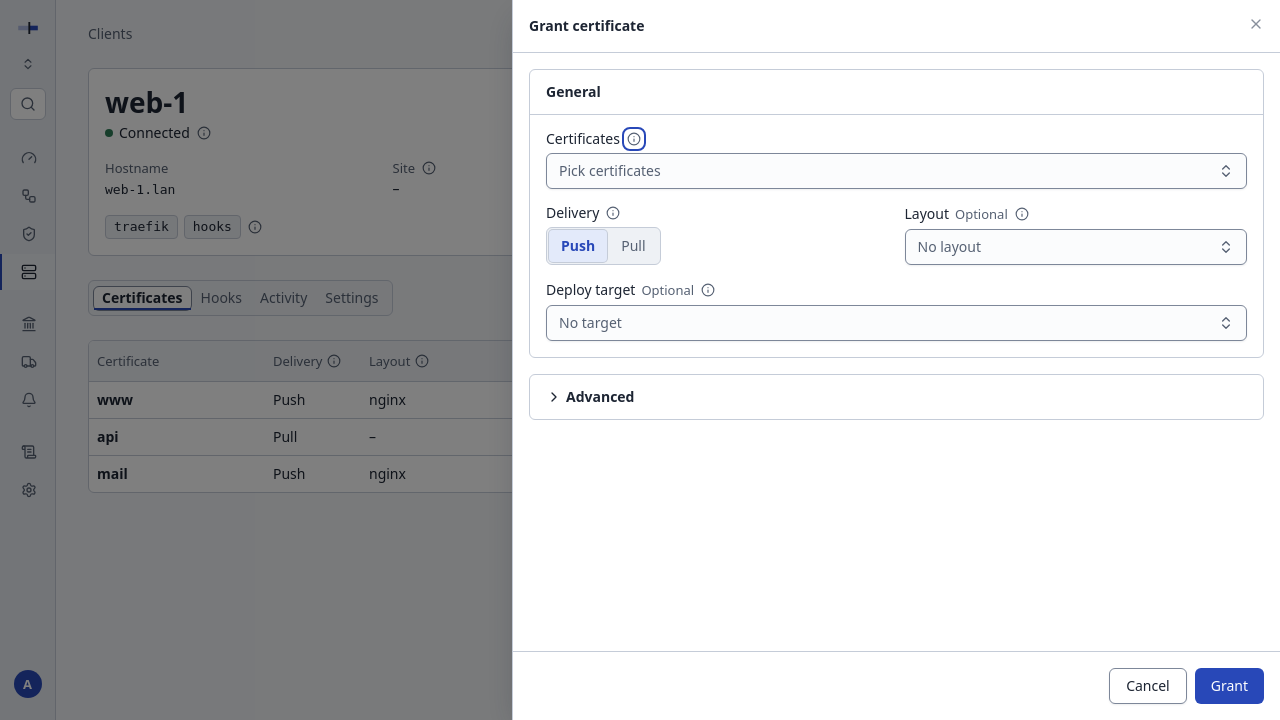
Test: either target saved as agent is pickable
The image size is (1280, 720).
Step 1. Click the dropdown named "Deploy target" → (590, 322), box [546,305,1247,341]
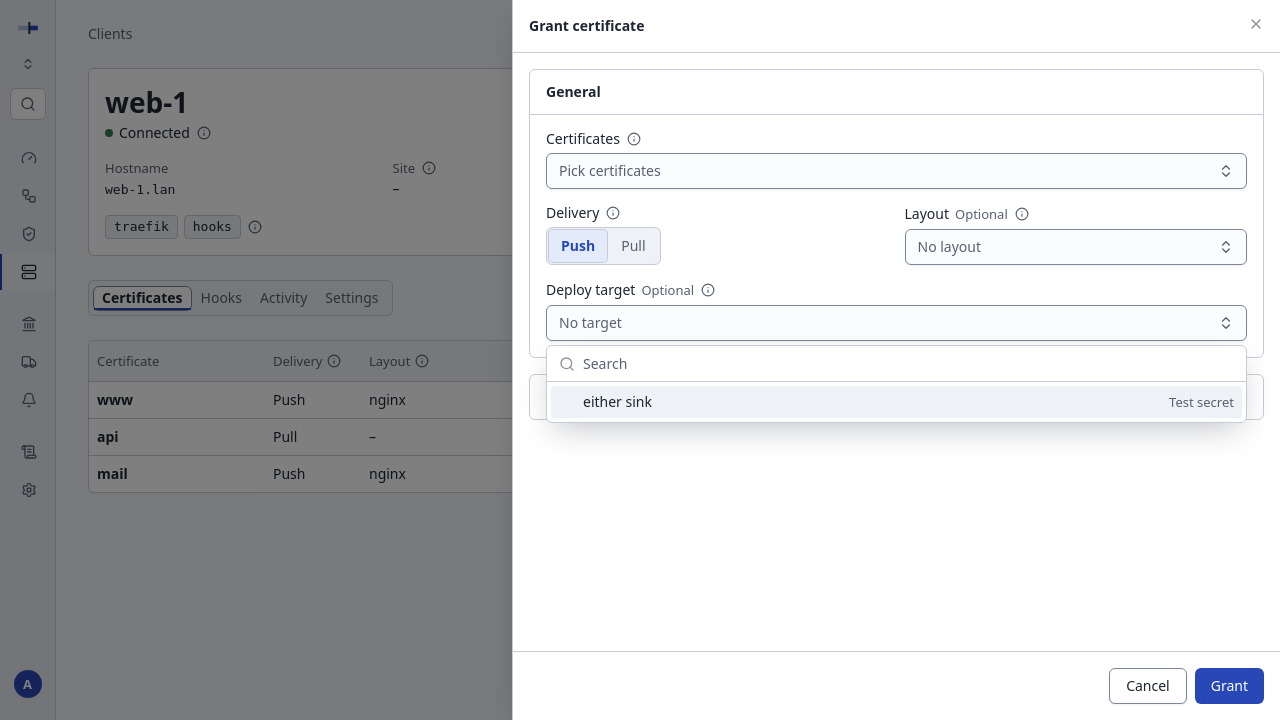
Step 2. Click the option "either sink Test secret" → (617, 402), box [551,386,1242,418]
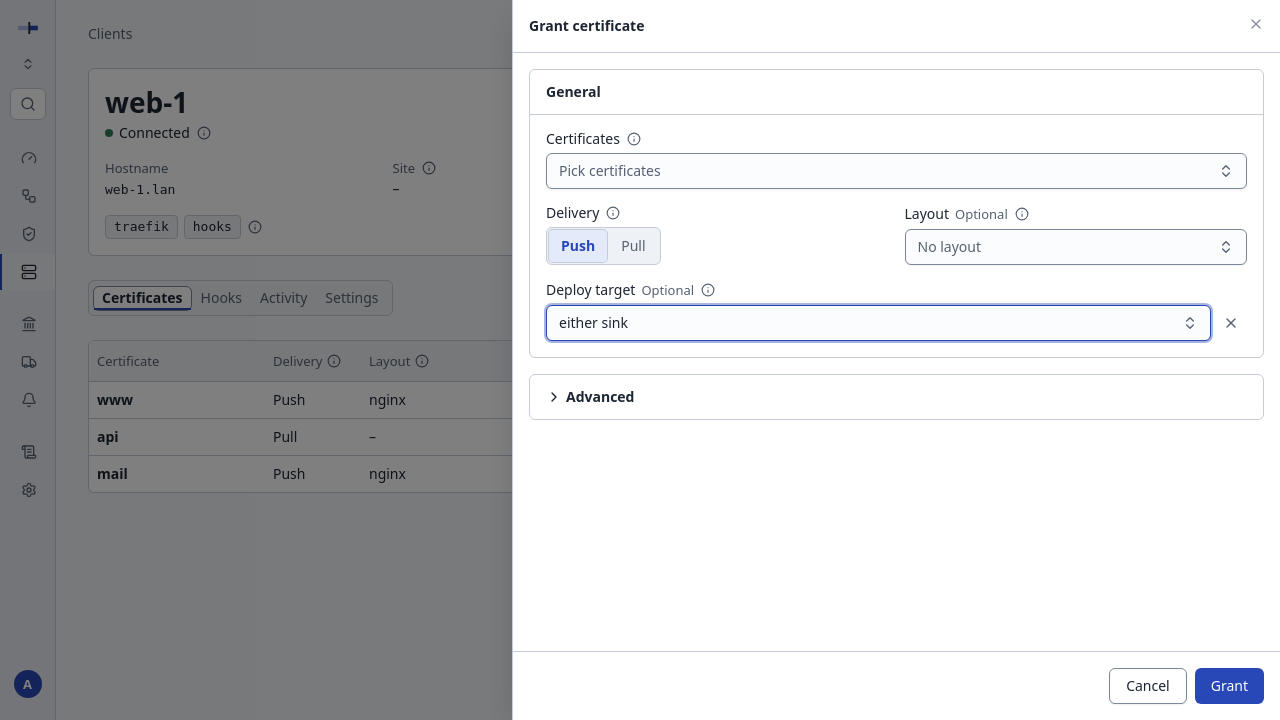
Result: the dropdown named "Deploy target" reads "either sink" at [546,305,1211,341]
